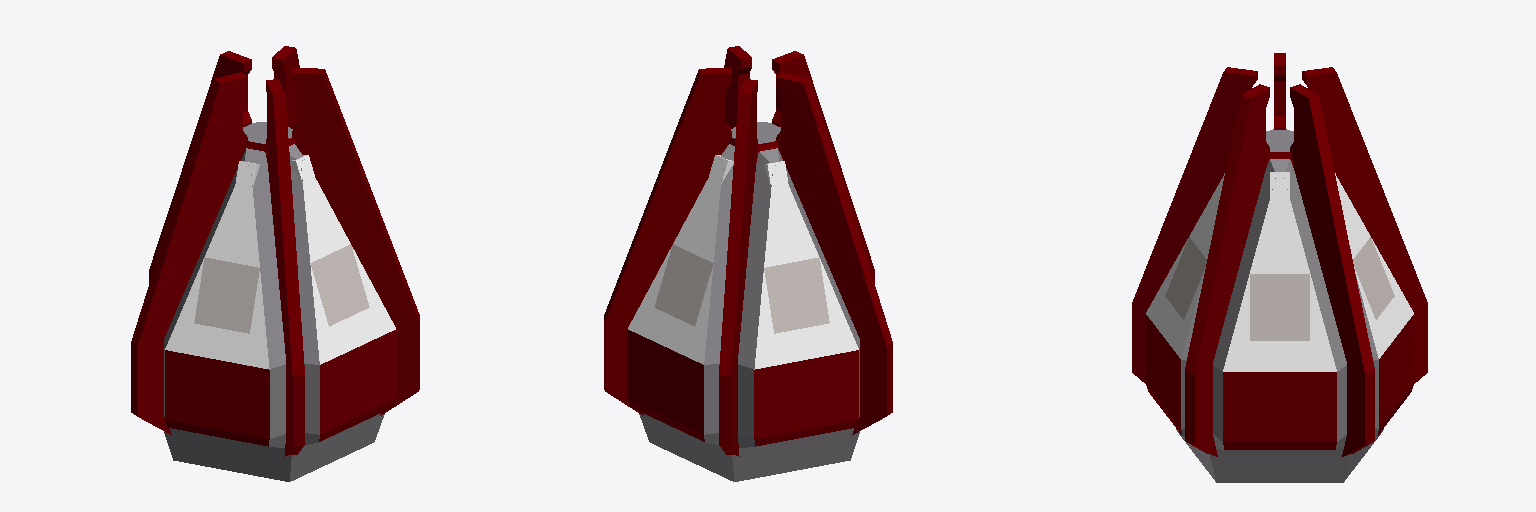
File: drop-pod-closed.obj
The picture shows the model from 3 angles: view 1: azimuth 30°, elevation 25°; view 2: azimuth 150°, elevation 25°; view 3: azimuth 270°, elevation 25°; orthographic projection.
Parts seen in each view (by area): view 1: Mesh8 Component_1_1 Group5 Group1 Model, Mesh14 Component_1_4 Group8 Group1 Model, Mesh4 box1 Group3 Group2 Group1 Model, Mesh6 box3 Group3 Group2 Group1 Model, Mesh5 box2 Group3 Group2 Group1 Model, Mesh1 Group4 Group3 Group2 Group1 Model, Mesh3 box Group3 Group2 Group1 Model, Mesh7 box4 Group3 Group2 Group1 Model, Mesh2 Group4 Group3 Group2 Group1 Model; view 2: Mesh16 Component_1_5 Group9 Group1 Model, Mesh10 Component_1_2 Group6 Group1 Model, Mesh4 box1 Group3 Group2 Group1 Model, Mesh7 box4 Group3 Group2 Group1 Model, Mesh3 box Group3 Group2 Group1 Model, Mesh1 Group4 Group3 Group2 Group1 Model, Mesh5 box2 Group3 Group2 Group1 Model, Mesh6 box3 Group3 Group2 Group1 Model, Mesh2 Group4 Group3 Group2 Group1 Model; view 3: Mesh12 Component_1_3 Group7 Group1 Model, Mesh6 box3 Group3 Group2 Group1 Model, Mesh7 box4 Group3 Group2 Group1 Model, Mesh3 box Group3 Group2 Group1 Model, Mesh5 box2 Group3 Group2 Group1 Model, Mesh10 Component_1_2 Group6 Group1 Model, Mesh14 Component_1_4 Group8 Group1 Model, Mesh1 Group4 Group3 Group2 Group1 Model, Mesh4 box1 Group3 Group2 Group1 Model, Mesh2 Group4 Group3 Group2 Group1 Model.
Part boxes in pixels (left/top/right/bottom): Mesh8 Component_1_1 Group5 Group1 Model: left=164, top=148, right=285, bottom=447; Mesh14 Component_1_4 Group8 Group1 Model: left=289, top=144, right=396, bottom=444; Mesh4 box1 Group3 Group2 Group1 Model: left=131, top=72, right=247, bottom=434; Mesh6 box3 Group3 Group2 Group1 Model: left=292, top=67, right=419, bottom=415; Mesh5 box2 Group3 Group2 Group1 Model: left=266, top=79, right=304, bottom=456; Mesh1 Group4 Group3 Group2 Group1 Model: left=164, top=413, right=384, bottom=481; Mesh3 box Group3 Group2 Group1 Model: left=149, top=51, right=251, bottom=283; Mesh7 box4 Group3 Group2 Group1 Model: left=272, top=46, right=299, bottom=128; Mesh2 Group4 Group3 Group2 Group1 Model: left=241, top=122, right=296, bottom=162; Mesh16 Component_1_5 Group9 Group1 Model: left=738, top=148, right=859, bottom=447; Mesh10 Component_1_2 Group6 Group1 Model: left=627, top=144, right=734, bottom=444; Mesh4 box1 Group3 Group2 Group1 Model: left=776, top=72, right=892, bottom=434; Mesh7 box4 Group3 Group2 Group1 Model: left=604, top=67, right=731, bottom=415; Mesh3 box Group3 Group2 Group1 Model: left=719, top=79, right=757, bottom=456; Mesh1 Group4 Group3 Group2 Group1 Model: left=639, top=413, right=859, bottom=481; Mesh5 box2 Group3 Group2 Group1 Model: left=772, top=51, right=874, bottom=283; Mesh6 box3 Group3 Group2 Group1 Model: left=724, top=46, right=751, bottom=128; Mesh2 Group4 Group3 Group2 Group1 Model: left=727, top=122, right=782, bottom=162; Mesh12 Component_1_3 Group7 Group1 Model: left=1213, top=159, right=1346, bottom=449; Mesh6 box3 Group3 Group2 Group1 Model: left=1185, top=84, right=1269, bottom=456; Mesh7 box4 Group3 Group2 Group1 Model: left=1290, top=84, right=1374, bottom=456; Mesh3 box Group3 Group2 Group1 Model: left=1302, top=67, right=1427, bottom=383; Mesh5 box2 Group3 Group2 Group1 Model: left=1132, top=67, right=1257, bottom=383; Mesh10 Component_1_2 Group6 Group1 Model: left=1335, top=174, right=1413, bottom=437; Mesh14 Component_1_4 Group8 Group1 Model: left=1146, top=174, right=1224, bottom=437; Mesh1 Group4 Group3 Group2 Group1 Model: left=1176, top=429, right=1383, bottom=482; Mesh4 box1 Group3 Group2 Group1 Model: left=1274, top=53, right=1285, bottom=129; Mesh2 Group4 Group3 Group2 Group1 Model: left=1266, top=129, right=1293, bottom=167.
Bounding box in the file's own units: 4.4 × 6.36 × 4.63.